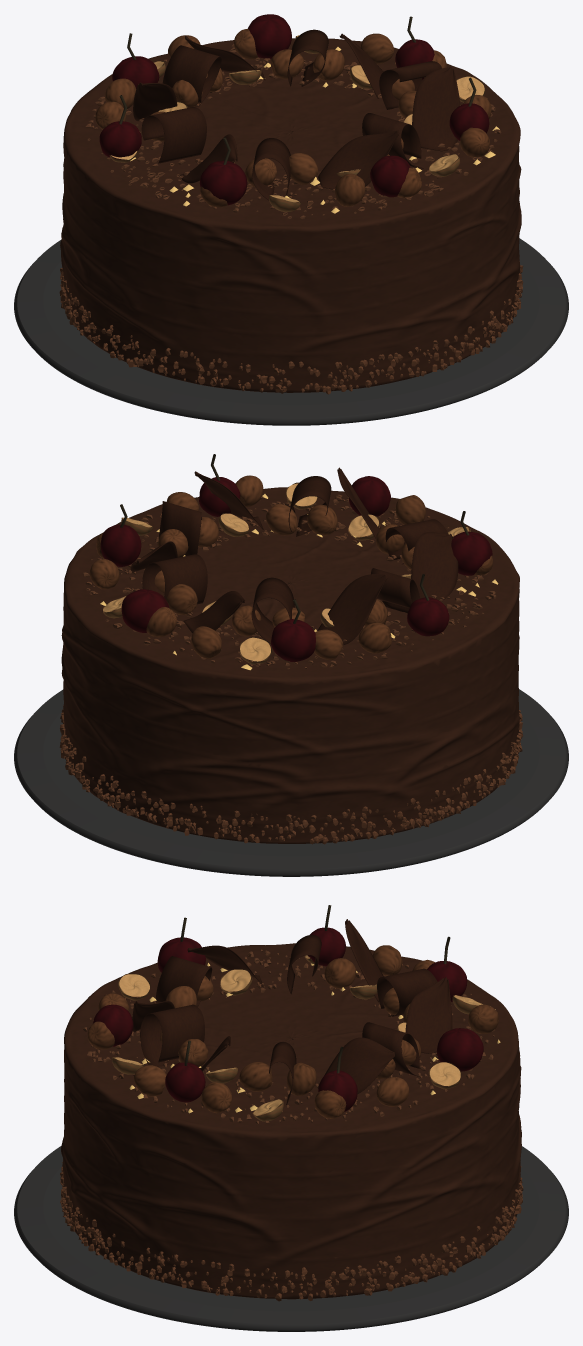
File: chocolate.glb
3 views of the same model, one above another, from view 1: azimuth 30°, elevation 25°; view 2: azimuth 150°, elevation 25°; view 3: azimuth 270°, elevation 25° (orthographic).
Parts seen in each view (by area): view 1: ganache, charcoal_ceramic, chocolate_ribbon, roasted_hazelnut, cocoa_crumb, amarena_cherry, hazelnut_kernel; view 2: ganache, charcoal_ceramic, chocolate_ribbon, roasted_hazelnut, cocoa_crumb, amarena_cherry, hazelnut_kernel; view 3: ganache, charcoal_ceramic, chocolate_ribbon, roasted_hazelnut, cocoa_crumb, amarena_cherry, hazelnut_kernel.
Part boxes in pixels (bbox=[...]): ganache: bbox=[60, 38, 521, 392]; charcoal_ceramic: bbox=[14, 238, 568, 425]; chocolate_ribbon: bbox=[133, 29, 460, 200]; roasted_hazelnut: bbox=[95, 29, 491, 211]; cocoa_crumb: bbox=[59, 44, 523, 394]; amarena_cherry: bbox=[99, 14, 489, 205]; hazelnut_kernel: bbox=[111, 35, 484, 202]; ganache: bbox=[61, 487, 519, 843]; charcoal_ceramic: bbox=[14, 689, 568, 876]; chocolate_ribbon: bbox=[130, 467, 458, 644]; roasted_hazelnut: bbox=[89, 475, 492, 664]; cocoa_crumb: bbox=[59, 494, 522, 844]; amarena_cherry: bbox=[100, 476, 492, 661]; hazelnut_kernel: bbox=[103, 483, 468, 661]; ganache: bbox=[61, 943, 521, 1299]; charcoal_ceramic: bbox=[14, 1146, 568, 1331]; chocolate_ribbon: bbox=[132, 919, 452, 1104]; roasted_hazelnut: bbox=[87, 945, 498, 1121]; cocoa_crumb: bbox=[60, 949, 523, 1301]; amarena_cherry: bbox=[93, 927, 483, 1111]; hazelnut_kernel: bbox=[114, 955, 482, 1115].
Bounding box in the file's own units: 3.42 × 1.66 × 3.42.
Materials: 9 (3 with a texture image).
